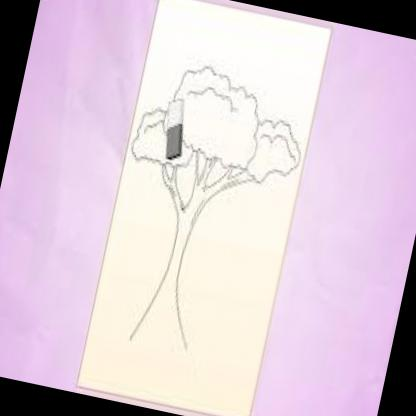branch_cut: (149, 132, 259, 237)
crown_cloud: (128, 52, 316, 194)
trunk_reflex: (148, 230, 195, 311)
